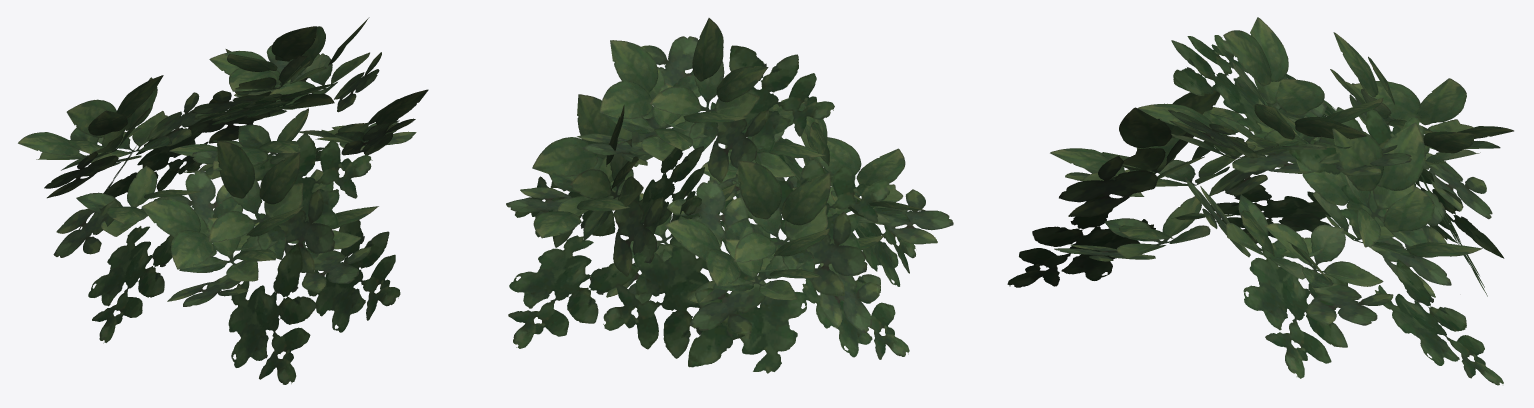
Rendered from Bush7.fbx.
3 renders of one model, left to right at view 1: azimuth 30°, elevation 25°; view 2: azimuth 150°, elevation 25°; view 3: azimuth 270°, elevation 25°, orthographic. The views are drawn at different scales.
Visible parts, largest first — view 1: SM_cmn_mount_Bush_06a; view 2: SM_cmn_mount_Bush_06a; view 3: SM_cmn_mount_Bush_06a.
Boxes of the visible parts, x1,y1,x2,y2 form: SM_cmn_mount_Bush_06a: (18, 17, 428, 384); SM_cmn_mount_Bush_06a: (506, 18, 953, 373); SM_cmn_mount_Bush_06a: (1007, 17, 1513, 385).
Size of the model in its own units: 102 by 69.04 by 94.72.
